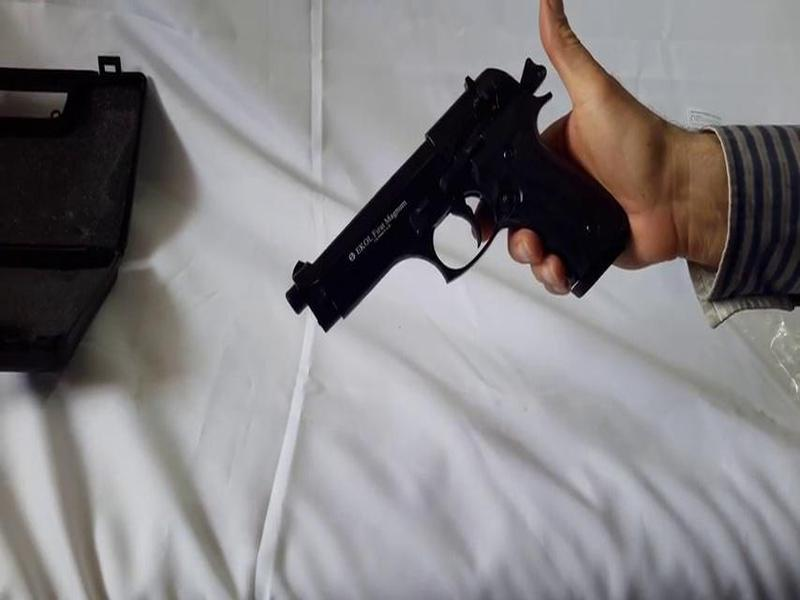Pistola: (278, 52, 645, 344)
